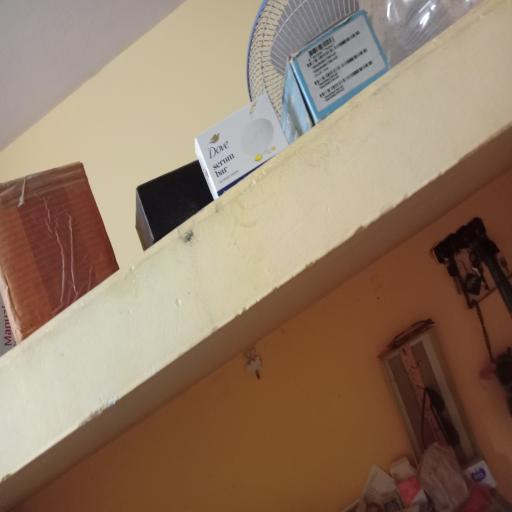Dove`1: (183, 89, 302, 198)
